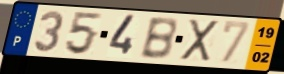3: (33, 9, 65, 54)
4: (108, 13, 138, 60)
5: (64, 10, 106, 56)
7: (220, 19, 253, 66)
B: (138, 16, 179, 61)
X: (179, 18, 220, 63)
